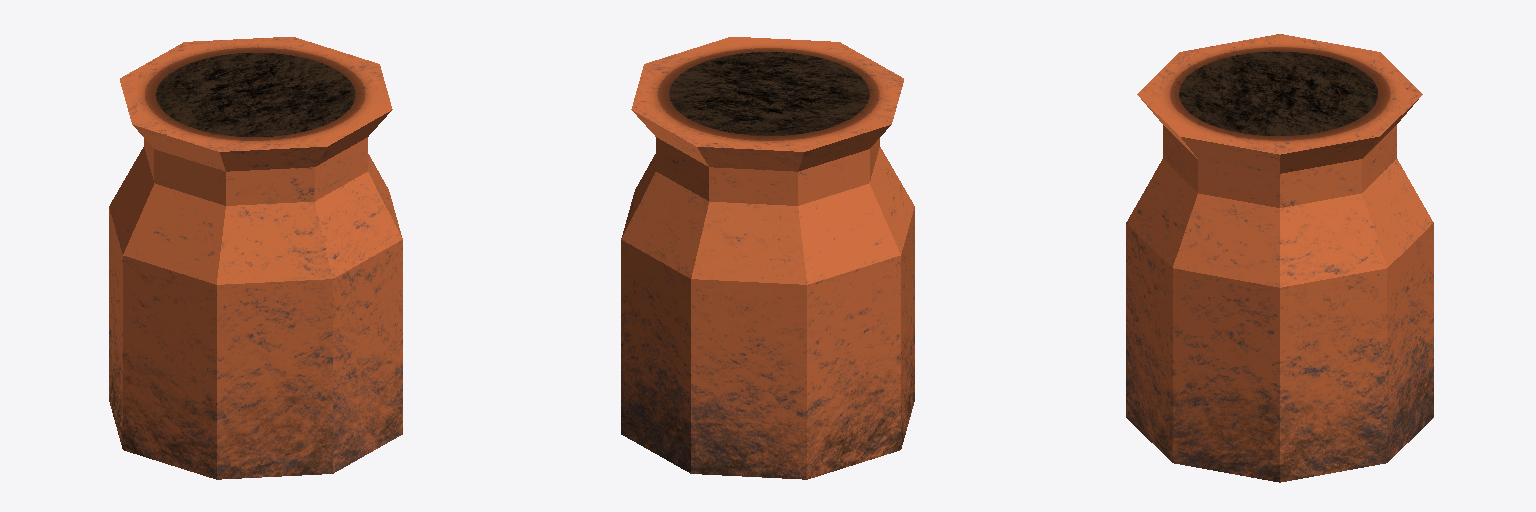
3 renders of one model, left to right at view 1: azimuth 30°, elevation 25°; view 2: azimuth 150°, elevation 25°; view 3: azimuth 270°, elevation 25°, orthographic.
Visible parts, largest first — view 1: vase2; view 2: vase2; view 3: vase2.
Boxes of the visible parts, box(x1,y1,x2,y2) form: vase2: box(109, 37, 402, 479); vase2: box(621, 37, 914, 479); vase2: box(1126, 34, 1433, 482).
Bounding box in the file's own units: 0.5288 × 0.6138 × 0.5288.
Materials: 1 (1 with a texture image).